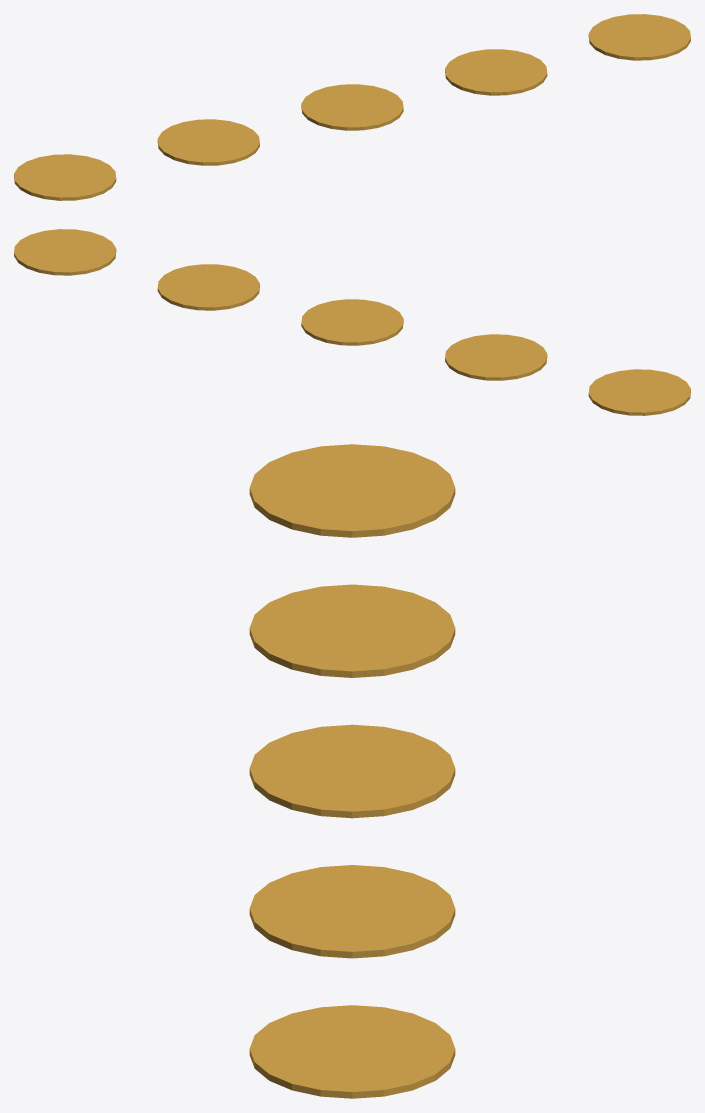
Rendered from 165_L110_TestPadGroup01.fbx.
The picture shows the model from 3 angles, top to bottom: view 1: azimuth 30°, elevation 25°; view 2: azimuth 150°, elevation 25°; view 3: azimuth 270°, elevation 25°; orthographic projection. The views are drawn at different scales.
Visible parts, largest first — view 1: L110_TestPadGroup01_GOLD; view 2: L110_TestPadGroup01_GOLD; view 3: L110_TestPadGroup01_GOLD.
Boxes of the visible parts, x1,y1,x2,y2 form: L110_TestPadGroup01_GOLD: [14, 14, 690, 200]; L110_TestPadGroup01_GOLD: [14, 229, 690, 415]; L110_TestPadGroup01_GOLD: [249, 444, 455, 1098].
Bounding box in the file's own units: 23.1 × 3.1 × 0.11.
